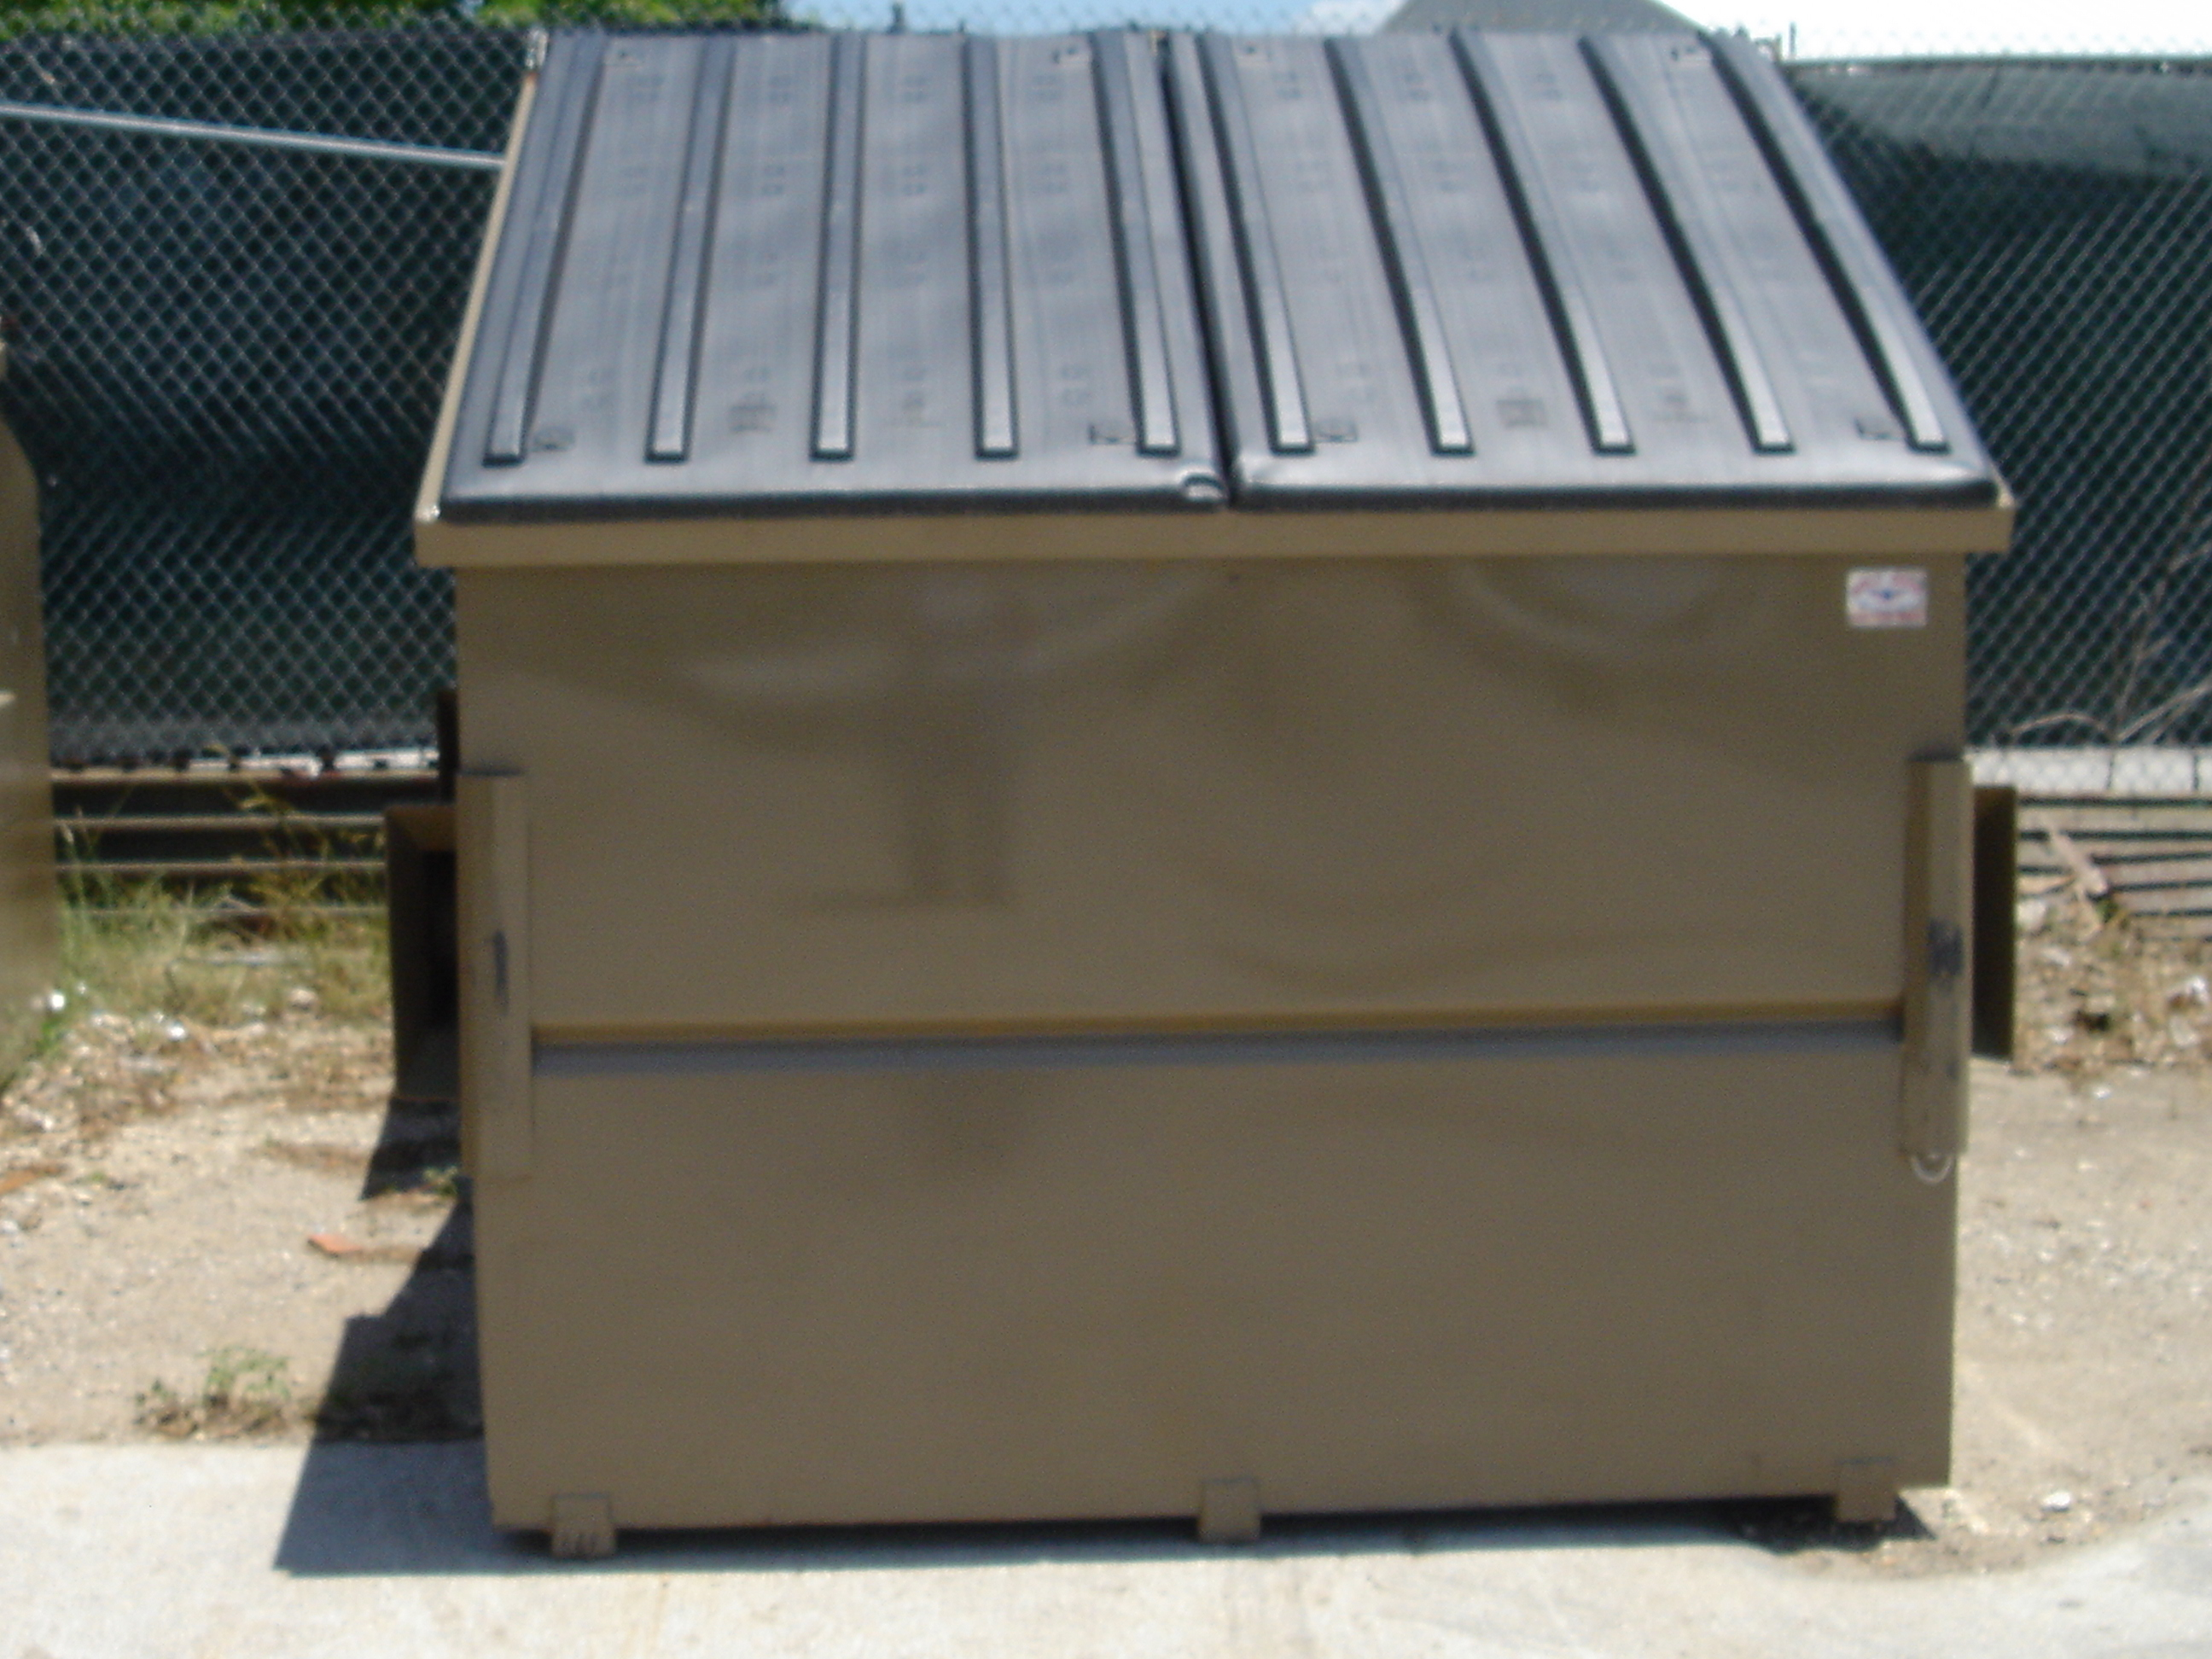Dumpster: (338, 26, 2067, 1560)
